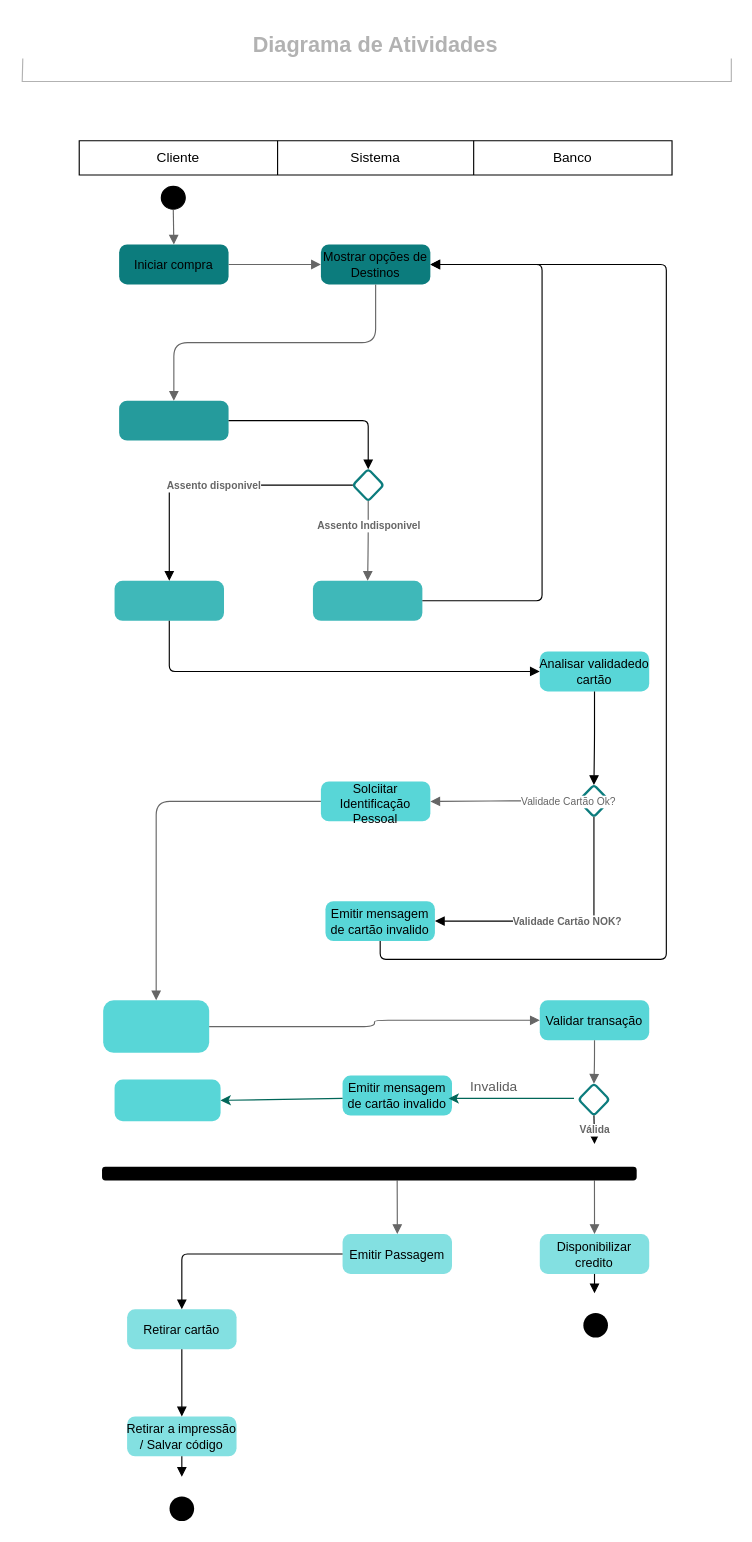
Image size: 752x1542. Some labels were removed from this diagram. Here are the shapes that lost their labels. From the top down, the centre of each, then its label:
At (x=367, y=73): "%date{mmmm d, yyyy}%".
At (x=173, y=420): "Selecionar destino e data".
At (x=168, y=600): "Inserir Cartão de Crédito".
At (x=367, y=600): "Exibir mensagem informando a indisponibilidade".
At (x=155, y=1026): "Fornecer identificação Pessoal (CPF)".
At (x=167, y=1099): "Emitir mensagem para retirar o cartão".
